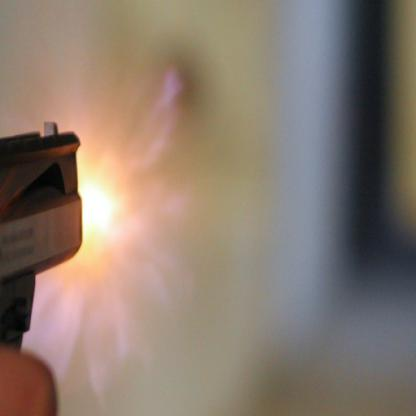gun: (0, 120, 83, 408)
